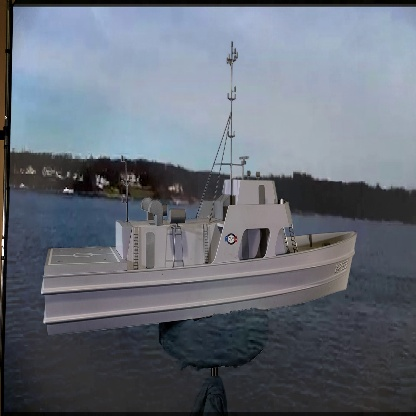YP689: (41, 39, 358, 338)
